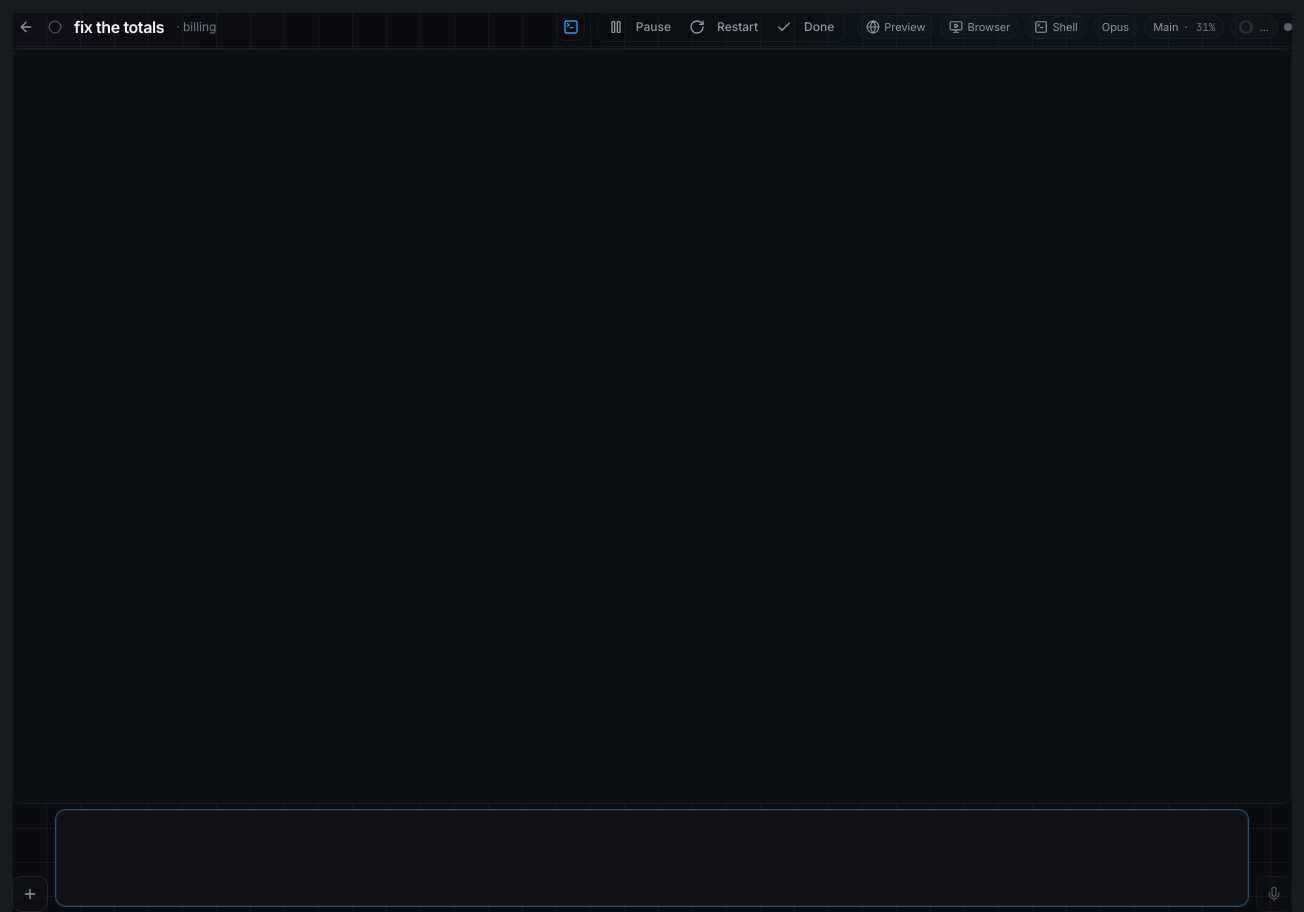
Scenario: CardTerminalView — the card bar › abandons a rename on Escape
Click the button "fix the totals" at (119, 27), box [70, 15, 168, 39]
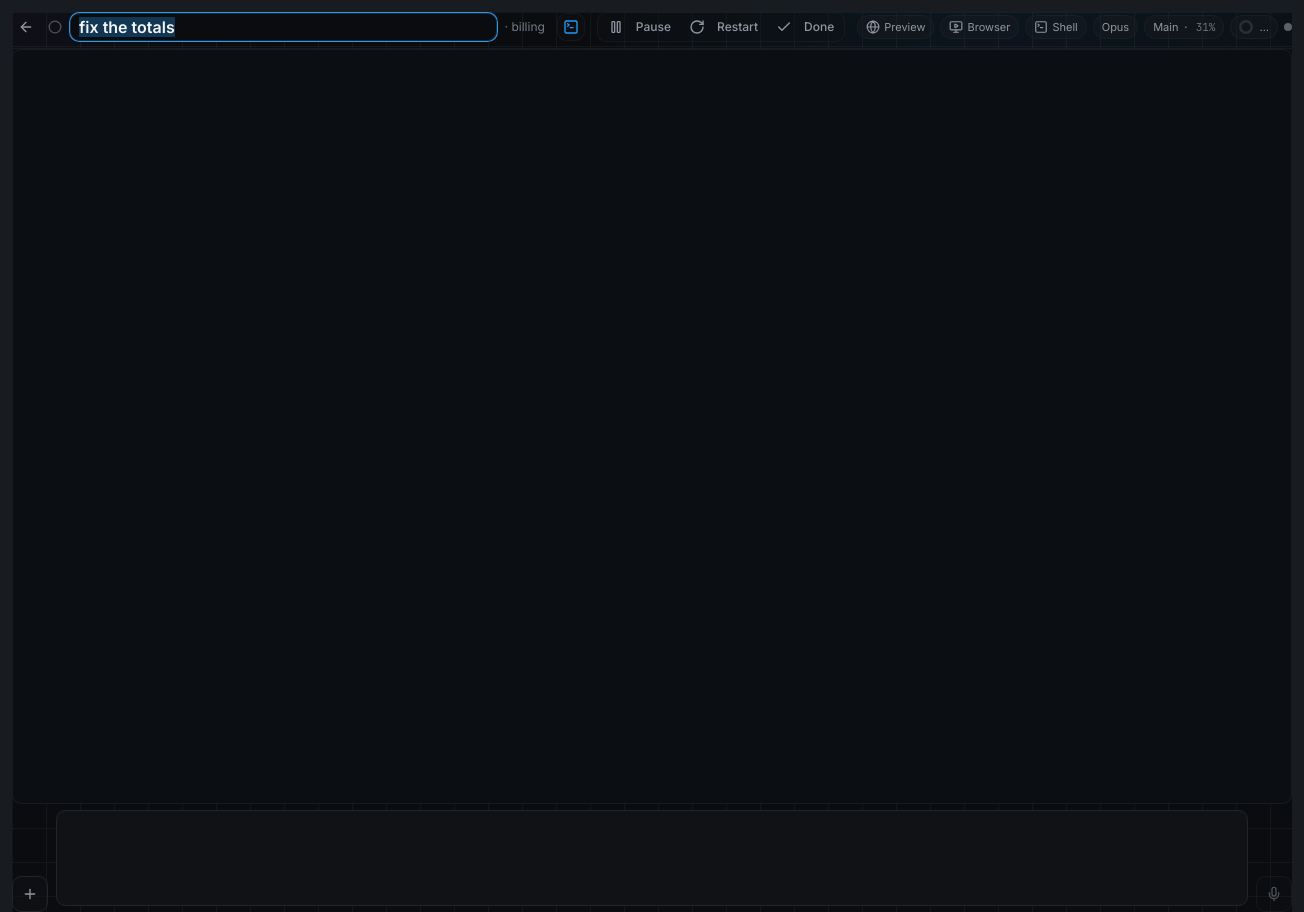
Type "junk" into the field named "Card title" at (283, 27), box [70, 13, 497, 41]
Then press Escape
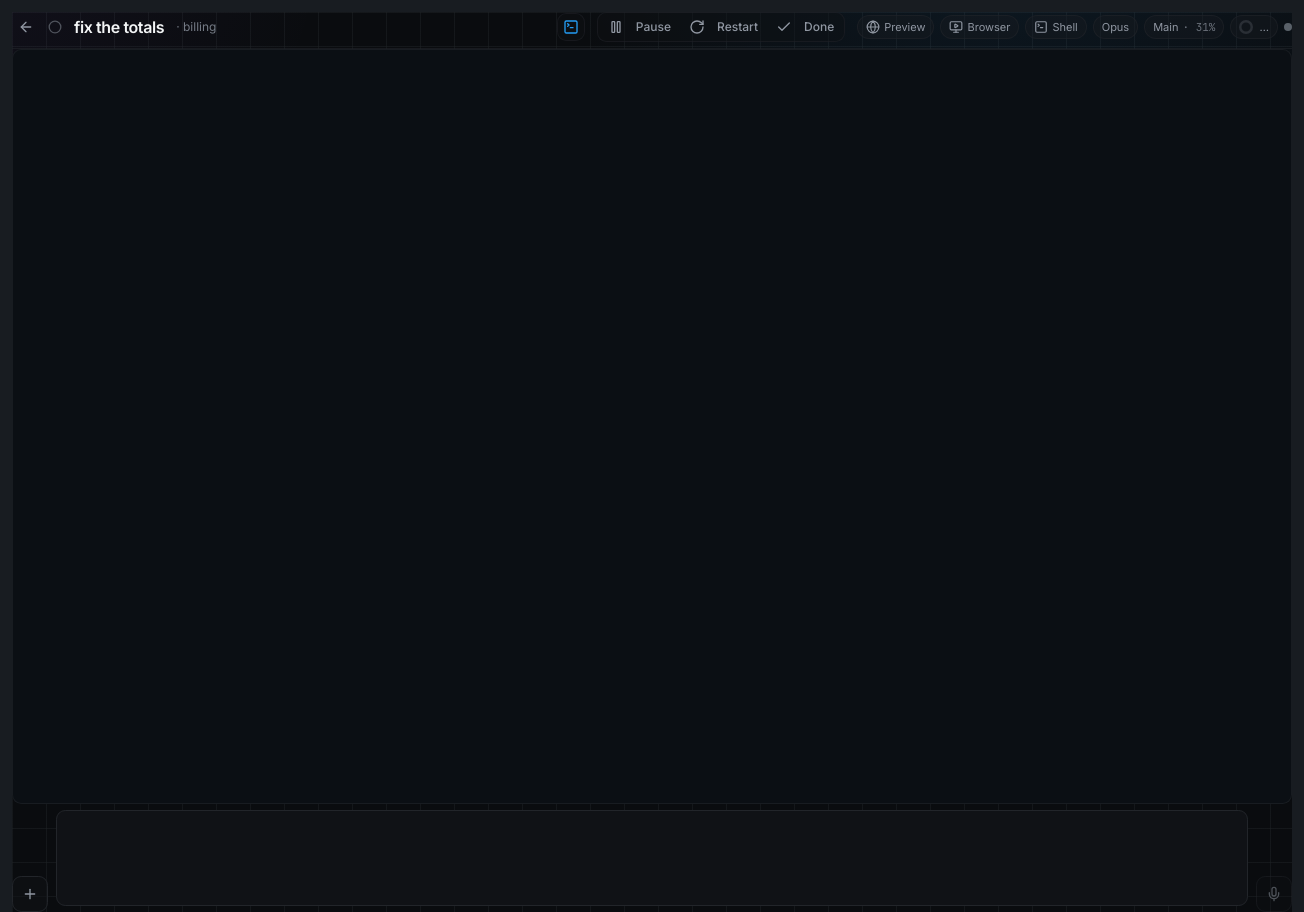
Expected: the heading "fix the totals" is shown, [74, 15, 164, 39]
